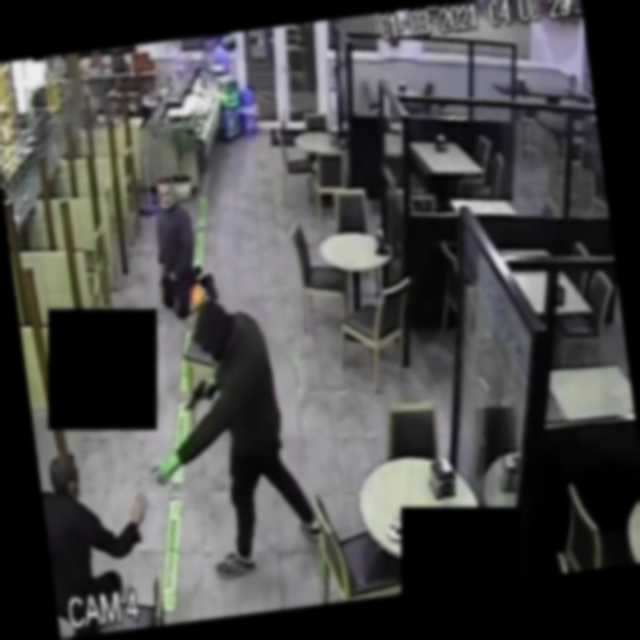gun: (172, 369, 226, 425)
